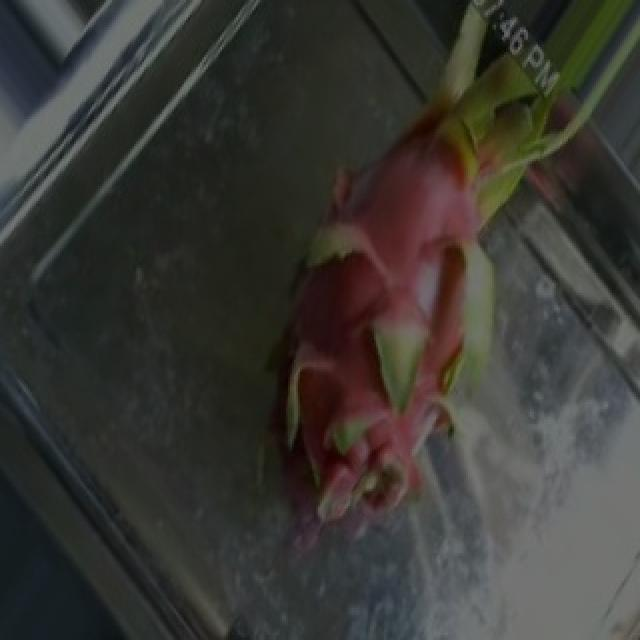fruit: (226, 5, 640, 424)
